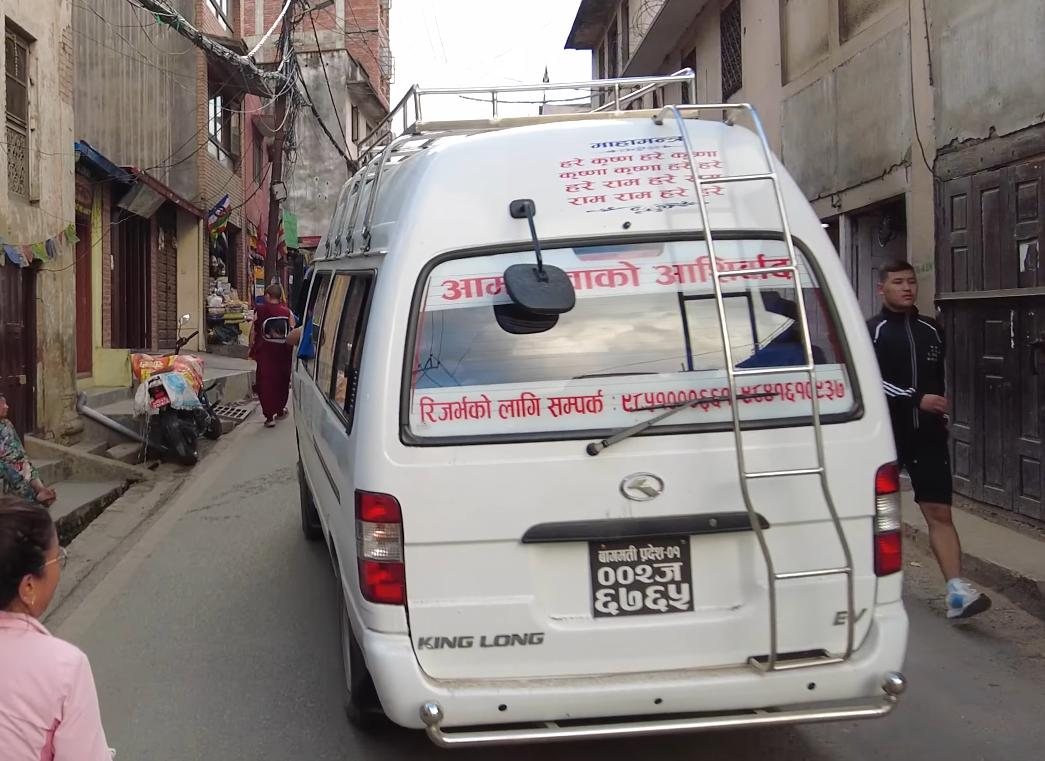bike: (144, 306, 231, 468)
micro_bus: (287, 60, 913, 761)
